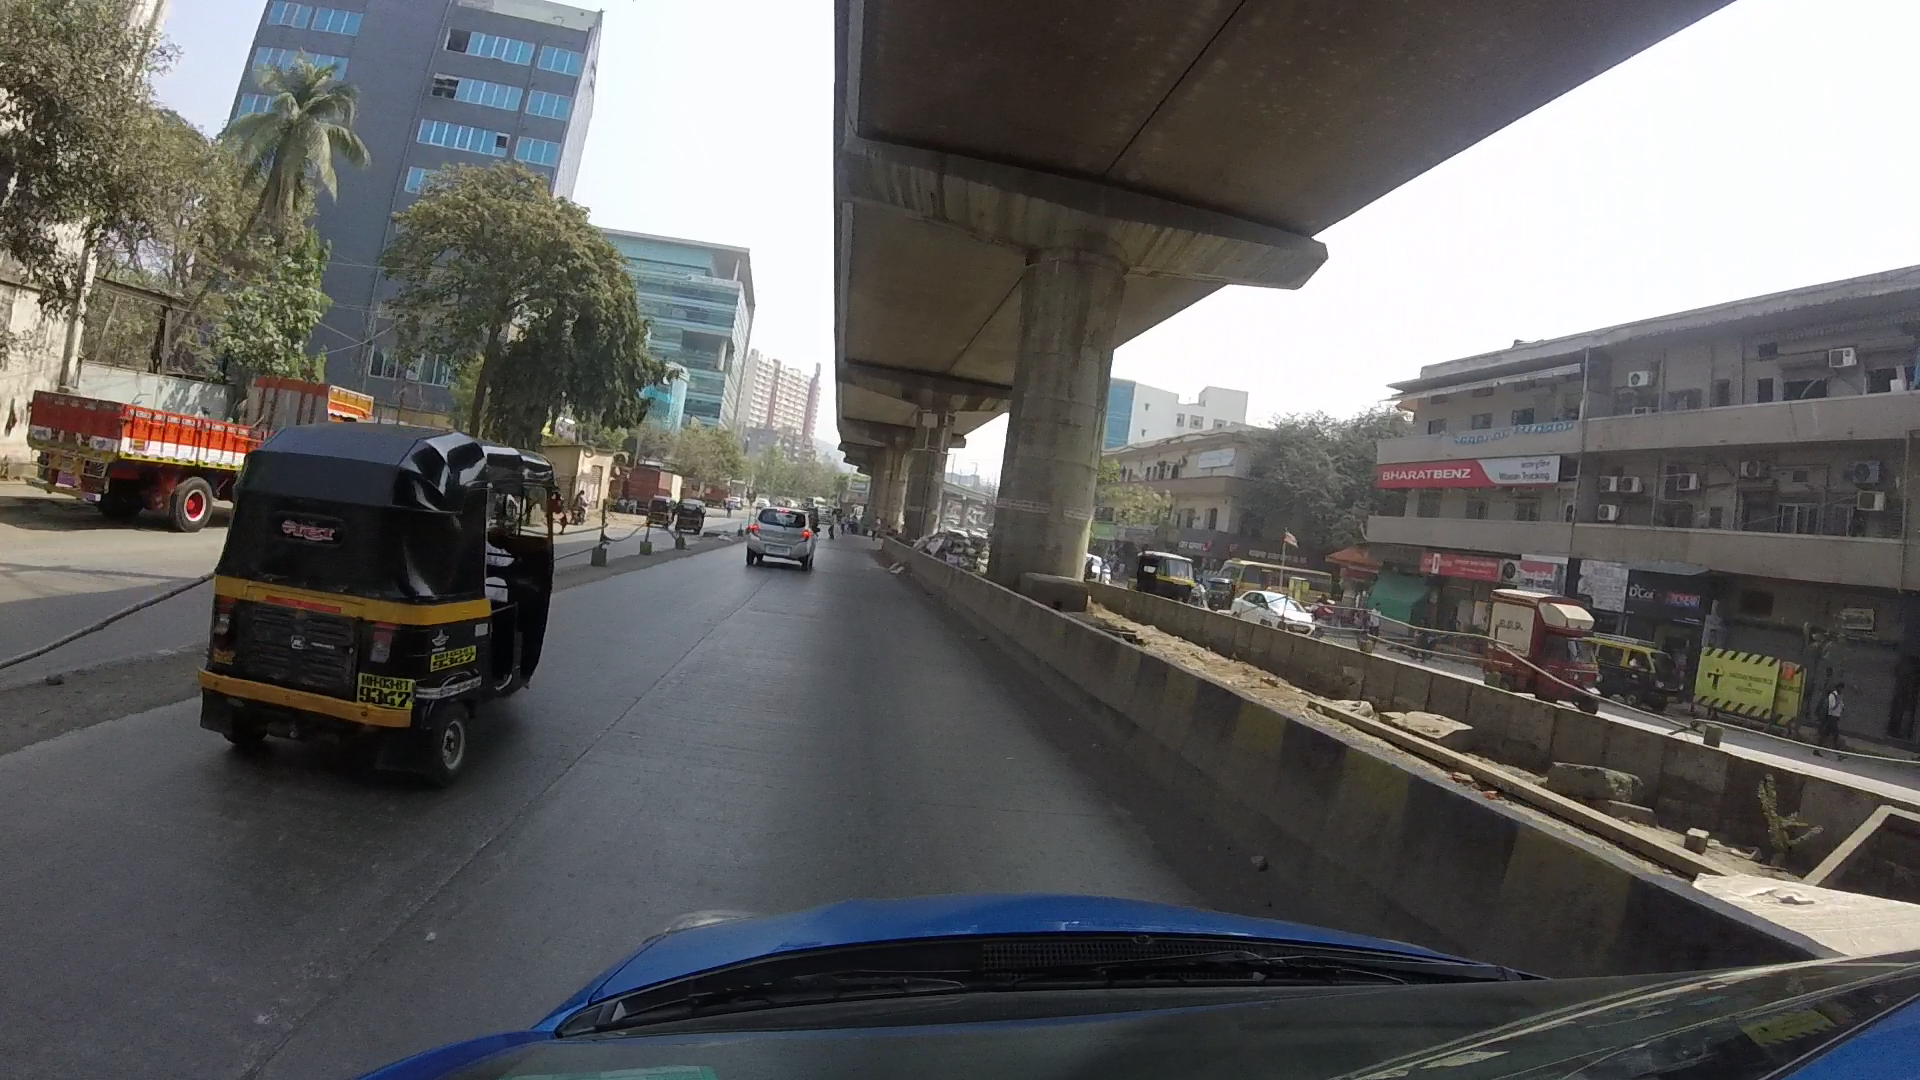car: (737, 501, 822, 574)
rickshaw: (216, 422, 537, 777)
truck: (22, 360, 361, 539), (1481, 592, 1607, 707)
